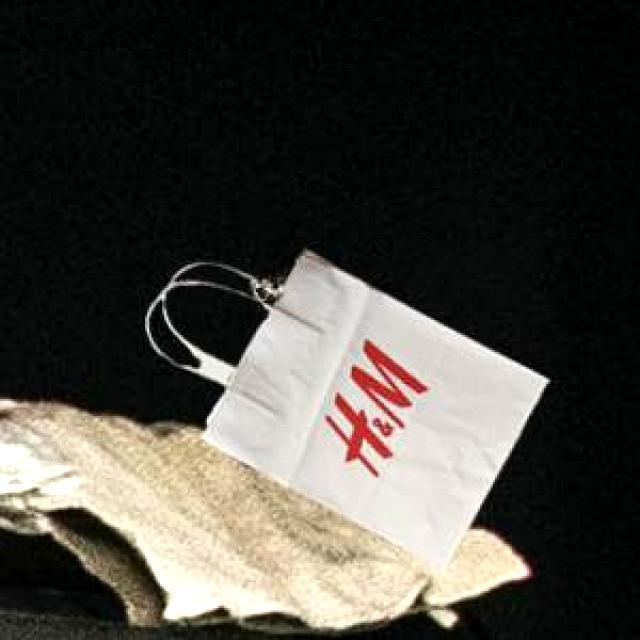Paper_Bag: (163, 246, 545, 566)
